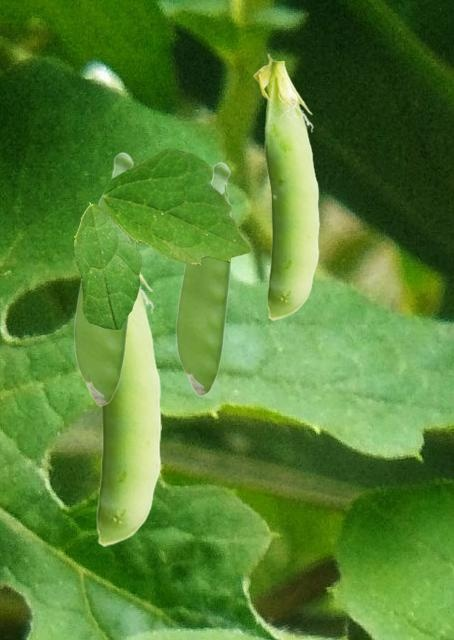pea: (94, 270, 160, 545), (253, 53, 318, 319), (73, 151, 135, 405), (175, 161, 232, 395)
